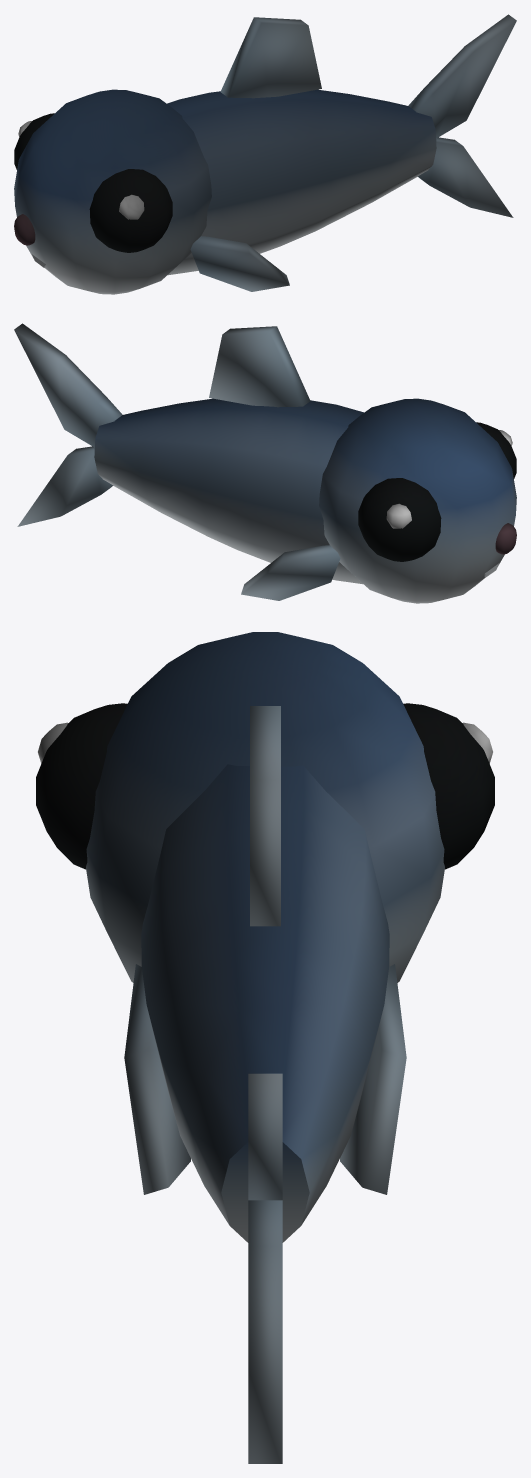
Rendered from Minnow.glb.
3 views of the same model, one above another, from view 1: azimuth 30°, elevation 25°; view 2: azimuth 150°, elevation 25°; view 3: azimuth 270°, elevation 25° (orthographic). The views are drawn at different scales.
Parts seen in each view (by area): view 1: Minnow; view 2: Minnow; view 3: Minnow.
Boxes of the visible parts, x1=… form: Minnow: x1=14, y1=14, x2=516, y2=294; Minnow: x1=14, y1=323, x2=516, y2=603; Minnow: x1=36, y1=632, x2=494, y2=1463.
Bounding box in the file's own units: 0.739 × 0.365 × 0.2963.
